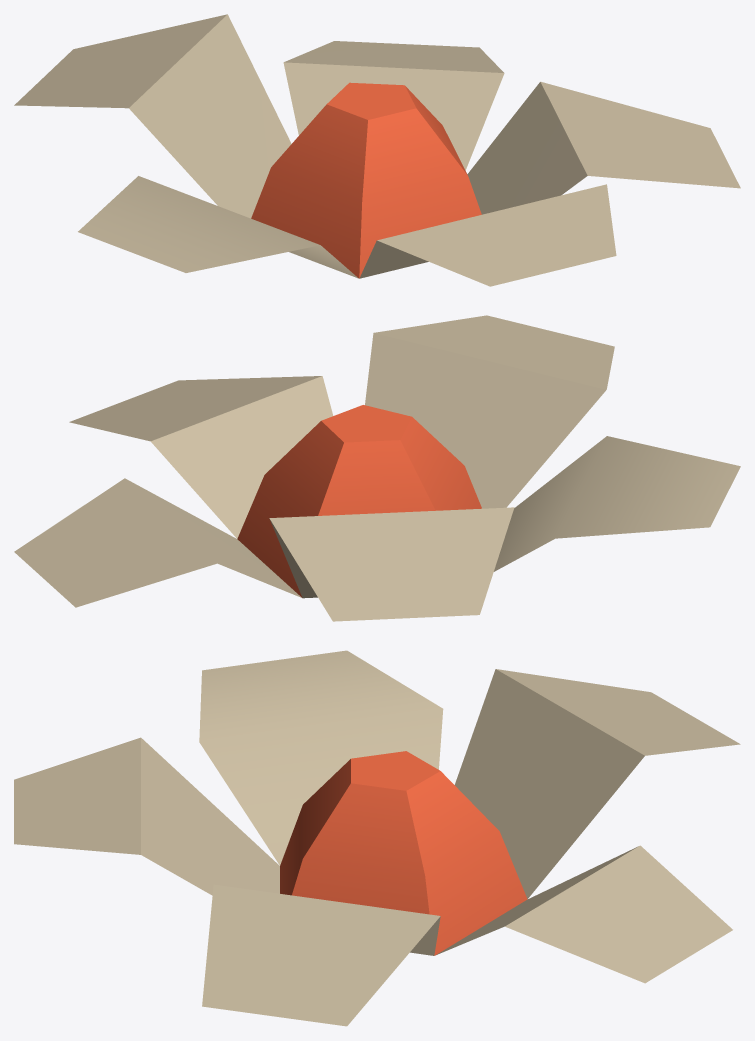
3 renders of one model, top to bottom at view 1: azimuth 30°, elevation 25°; view 2: azimuth 150°, elevation 25°; view 3: azimuth 270°, elevation 25°, orthographic. The views are drawn at different scales.
Visible parts, largest first — view 1: mff_plant_flower; view 2: mff_plant_flower; view 3: mff_plant_flower.
Part boxes in pixels (bbox=[...]): mff_plant_flower: bbox=[14, 14, 740, 286]; mff_plant_flower: bbox=[14, 315, 740, 621]; mff_plant_flower: bbox=[14, 650, 740, 1026].
Size of the model in its own units: 0.5577 by 0.1067 by 0.5304.
1 material, 1 textured.
